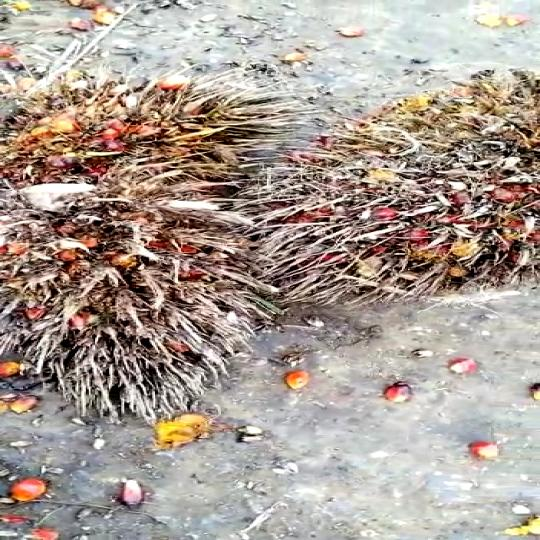terlalu masak: (230, 87, 540, 302), (0, 178, 253, 388), (0, 78, 262, 188)
